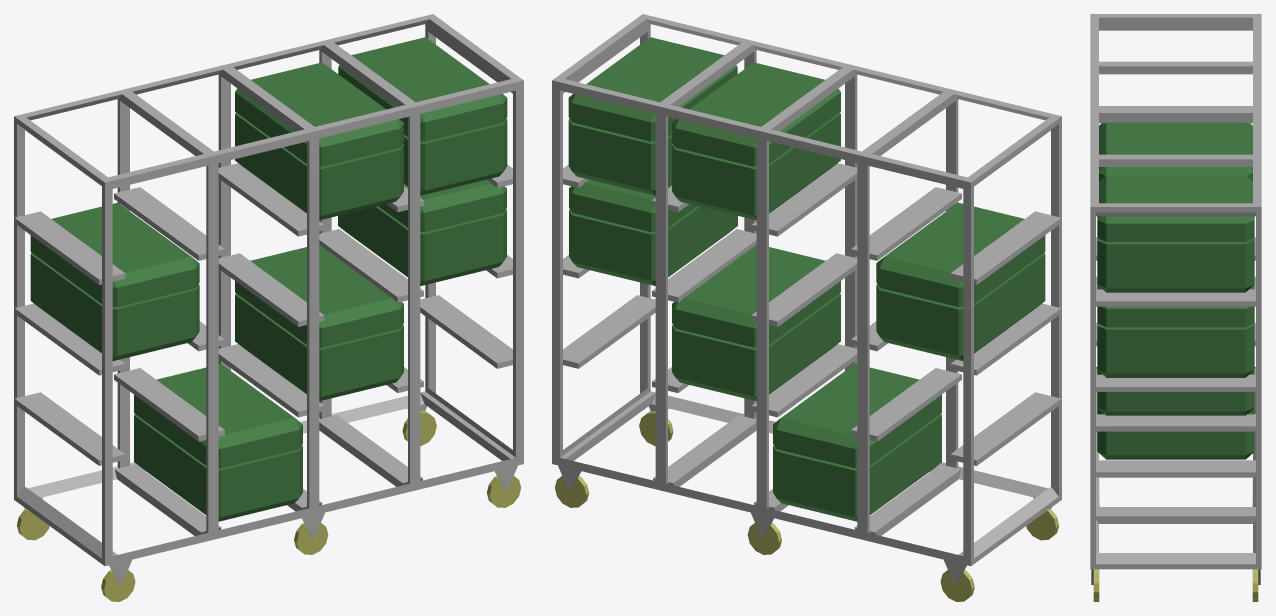
File: Rack3.fbx
3 views of the same model, side by side, from view 1: azimuth 30°, elevation 25°; view 2: azimuth 150°, elevation 25°; view 3: azimuth 270°, elevation 25° (orthographic). The views are drawn at different scales.
Parts seen in each view (by area): view 1: pCube328; view 2: pCube328; view 3: pCube328.
Part boxes in pixels (x1,y1,x2,y2): pCube328: [14, 14, 523, 601]; pCube328: [552, 14, 1061, 601]; pCube328: [1090, 14, 1261, 601].
Size of the model in its own units: 162 by 60 by 155.
